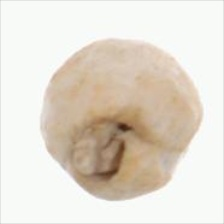L3: (69, 115, 137, 181)
L4: (40, 38, 202, 203)
